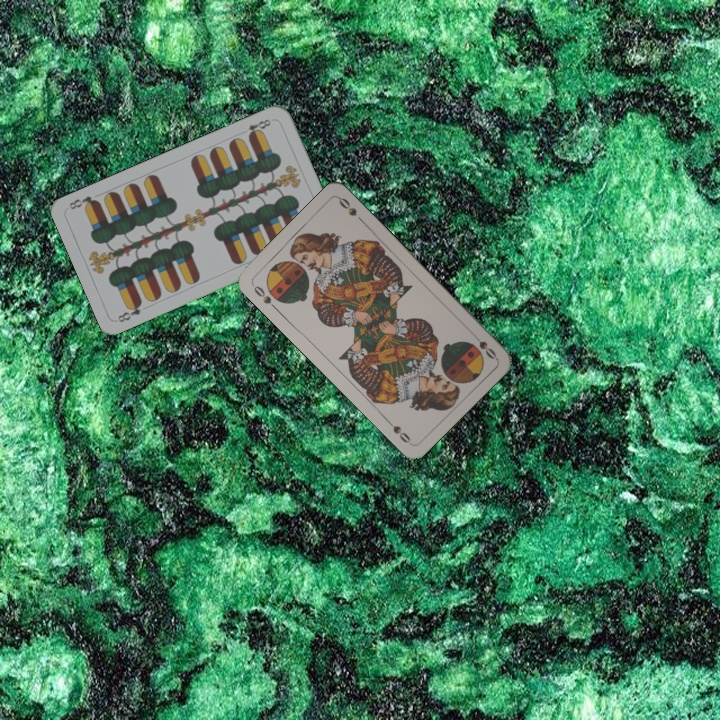E8: (113, 297, 145, 325), (244, 115, 273, 140)
SO: (467, 328, 499, 362), (248, 280, 280, 313)
